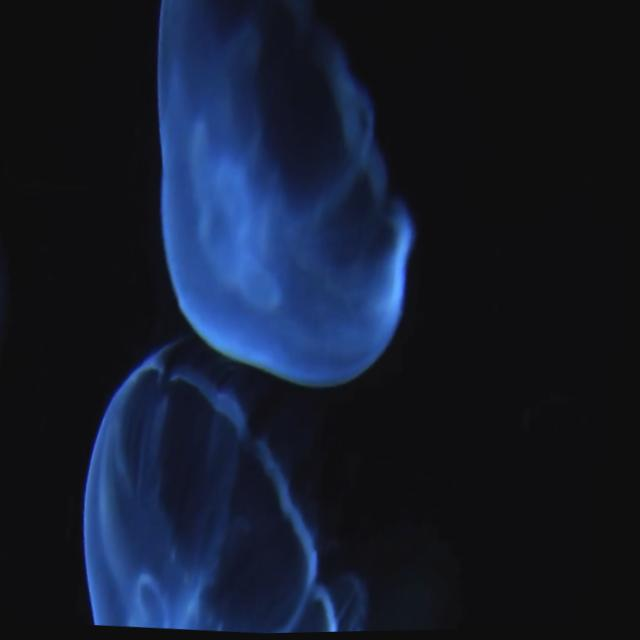Moon-jellyfish: (155, 0, 419, 390), (86, 328, 389, 635)
